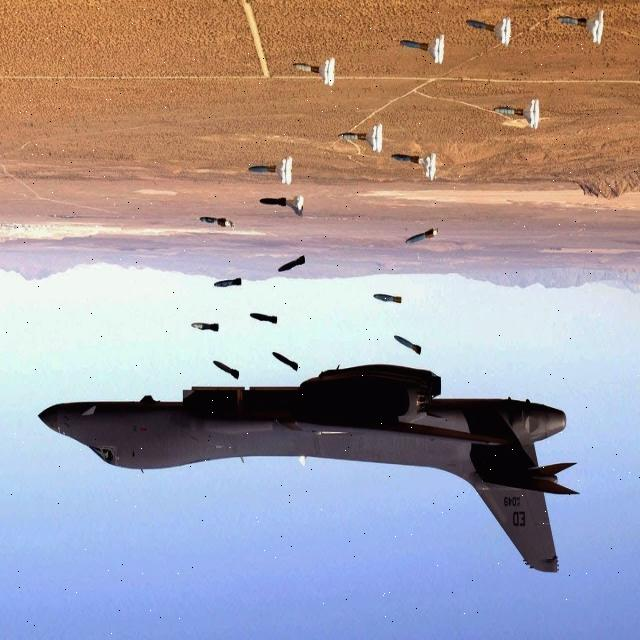B1: (22, 244, 588, 610)
